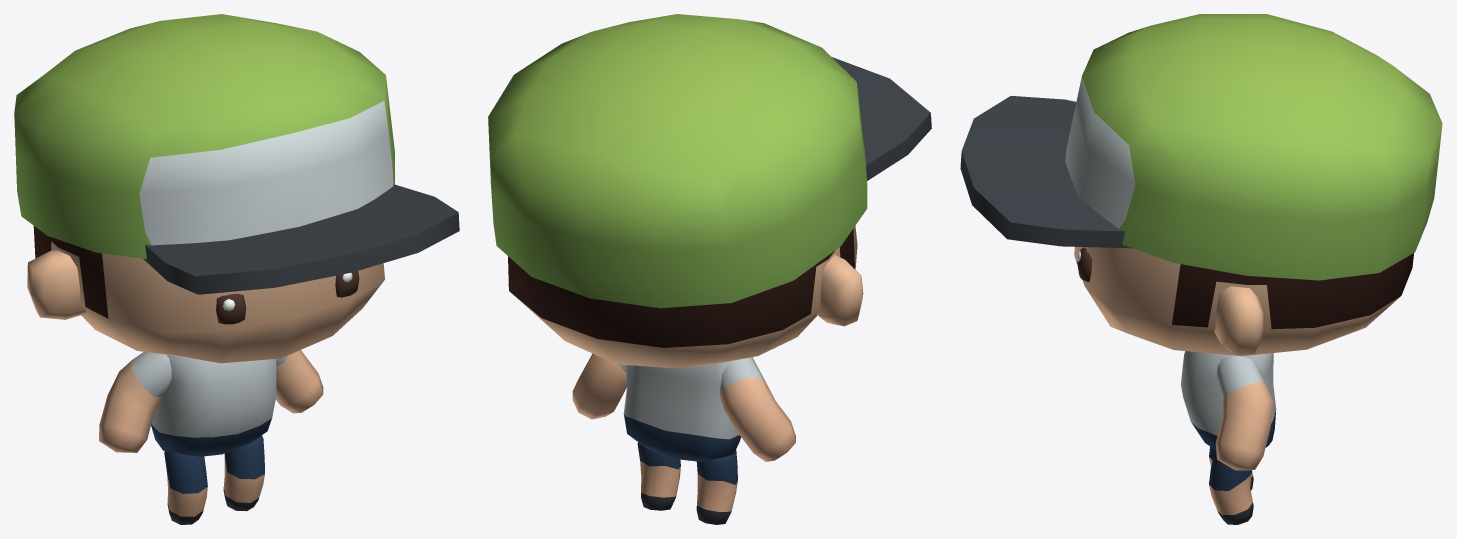
Rendered from idle_0024.obj.
The picture shows the model from 3 angles, left to right: view 1: azimuth 30°, elevation 25°; view 2: azimuth 150°, elevation 25°; view 3: azimuth 270°, elevation 25°; orthographic projection.
Parts seen in each view (by area): view 1: Object_41, Object_42, Object_36, Object_44, Object_38; view 2: Object_41, Object_44, Object_36, Object_42; view 3: Object_41, Object_36, Object_42, Object_44.
Part boxes in pixels (x1=…): Object_41: x1=14, y1=14, x2=394, y2=259; Object_42: x1=139, y1=101, x2=459, y2=294; Object_36: x1=27, y1=226, x2=384, y2=363; Object_44: x1=99, y1=350, x2=323, y2=524; Object_38: x1=216, y1=271, x2=359, y2=324; Object_41: x1=488, y1=14, x2=867, y2=308; Object_44: x1=572, y1=353, x2=795, y2=524; Object_36: x1=508, y1=226, x2=863, y2=368; Object_42: x1=832, y1=57, x2=931, y2=180; Object_41: x1=1082, y1=14, x2=1442, y2=280; Object_36: x1=1074, y1=246, x2=1413, y2=355; Object_42: x1=960, y1=76, x2=1135, y2=248; Object_44: x1=1181, y1=351, x2=1276, y2=524.
Bounding box in the file's own units: 0.9691 × 1.22 × 1.14.
